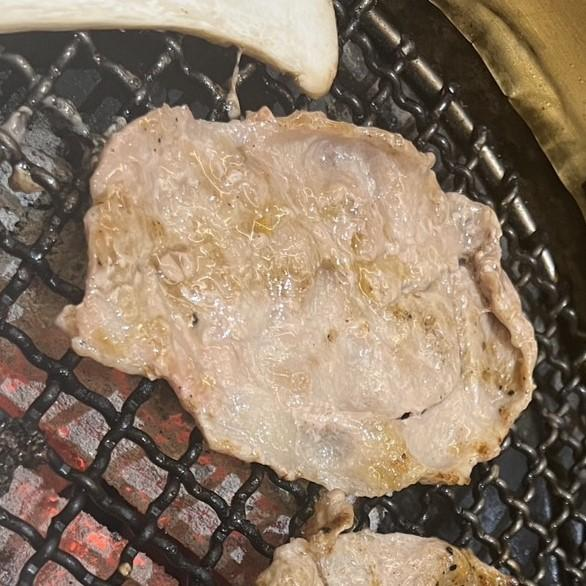Well-Cooked: (57, 107, 539, 499), (262, 531, 520, 585)
